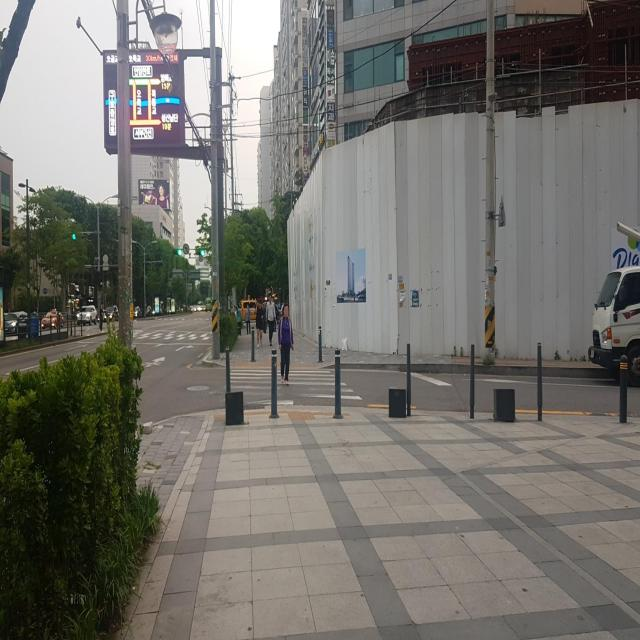횡단보도: (224, 369, 363, 406), (131, 325, 213, 340)
